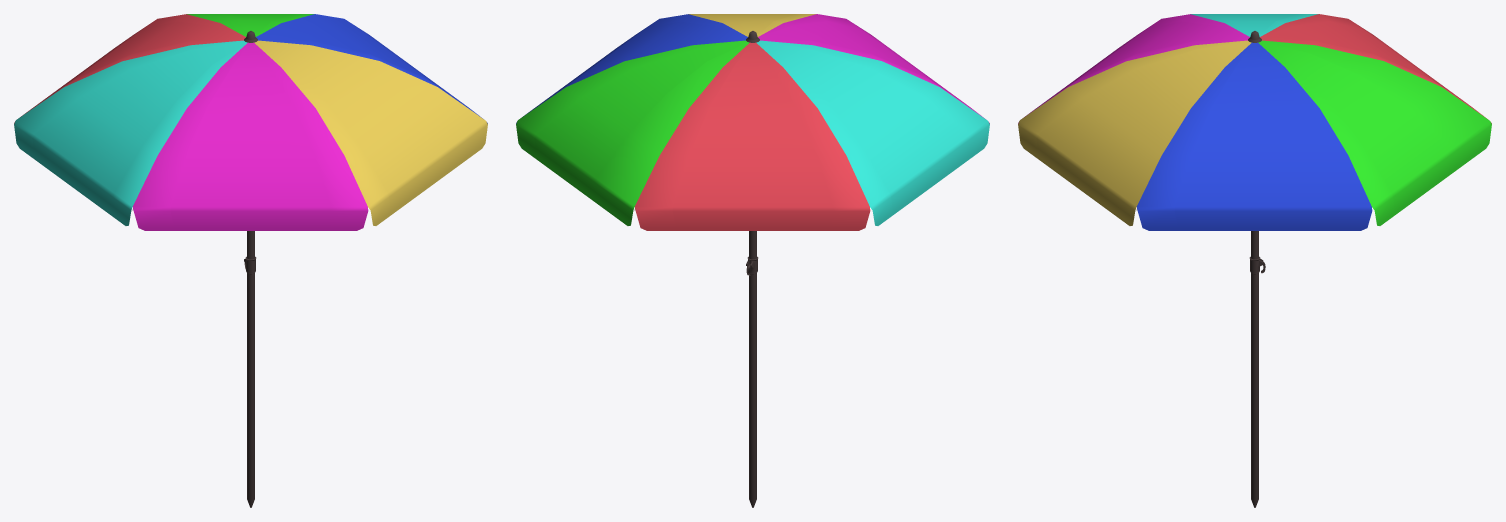
The model's file is Beach Umbella 02 ok.fbx.
3 views of the same model, side by side, from view 1: azimuth 30°, elevation 25°; view 2: azimuth 150°, elevation 25°; view 3: azimuth 270°, elevation 25° (orthographic).
Visible parts, largest first — view 1: Cylinder.040; view 2: Cylinder.040; view 3: Cylinder.040.
Part boxes in pixels (<box>): Cylinder.040: <box>14,14,487,507</box>; Cylinder.040: <box>516,14,989,507</box>; Cylinder.040: <box>1018,14,1491,507</box>.
Bounding box in the file's own units: 254 × 325 × 292.
